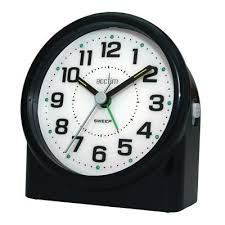alarm_clock: (17, 11, 199, 211)
